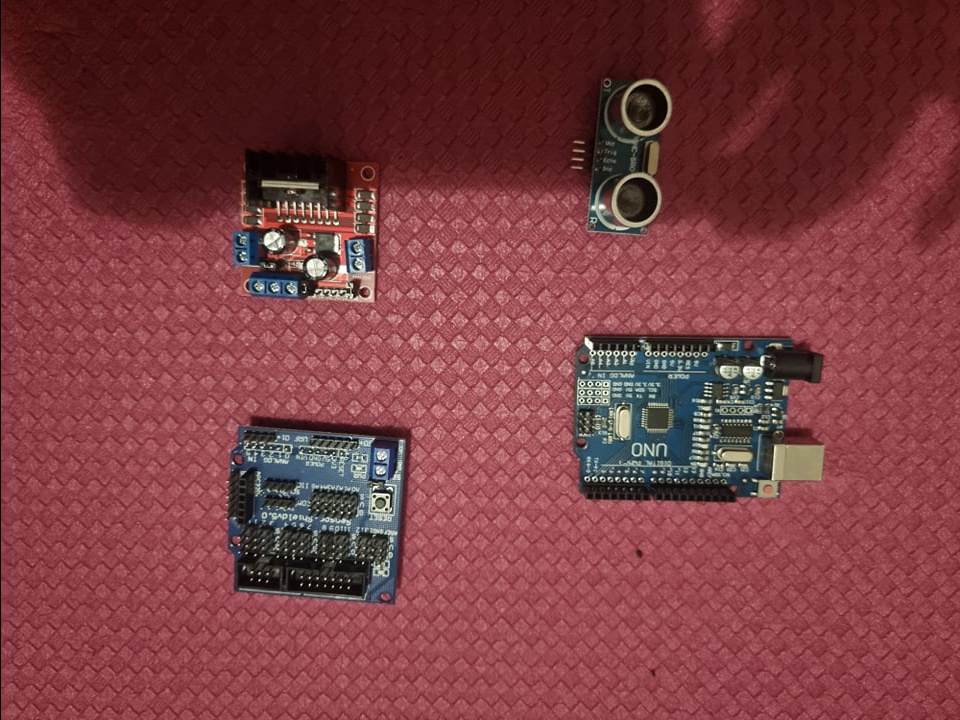5V EXPANSION: (225, 420, 411, 601)
MOTOR: (232, 149, 375, 298)
SENSOR: (584, 72, 673, 237)
UNO R3: (569, 333, 825, 507)
